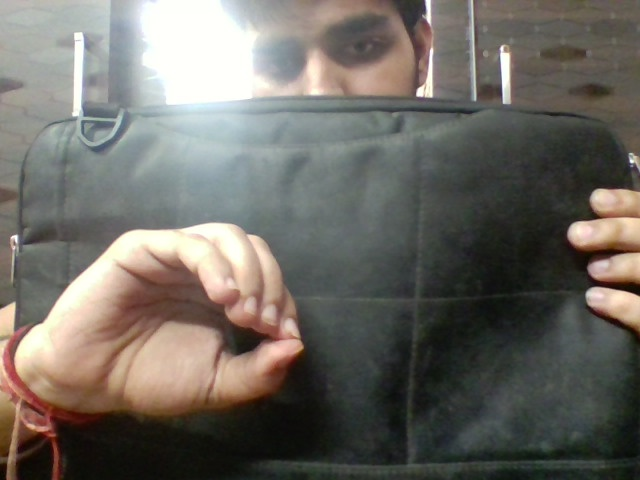o: (68, 208, 328, 437)
